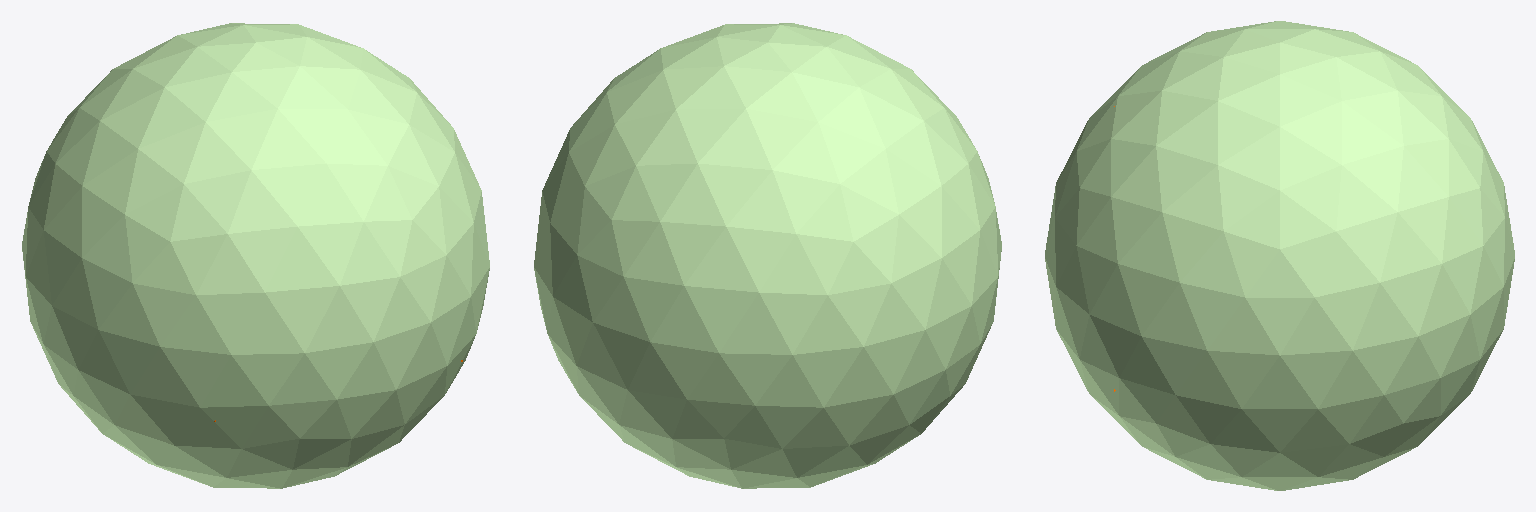
The model's file is player.obj.
3 renders of one model, left to right at view 1: azimuth 30°, elevation 25°; view 2: azimuth 150°, elevation 25°; view 3: azimuth 270°, elevation 25°, orthographic.
Parts seen in each view (by area): view 1: shield; view 2: shield; view 3: shield.
Boxes of the visible parts, <box> form: shield: <box>22,23,489,488</box>; shield: <box>534,23,1001,488</box>; shield: <box>1045,21,1514,490</box>.
Bounding box in the file's own units: 2.84 × 2.84 × 2.84.